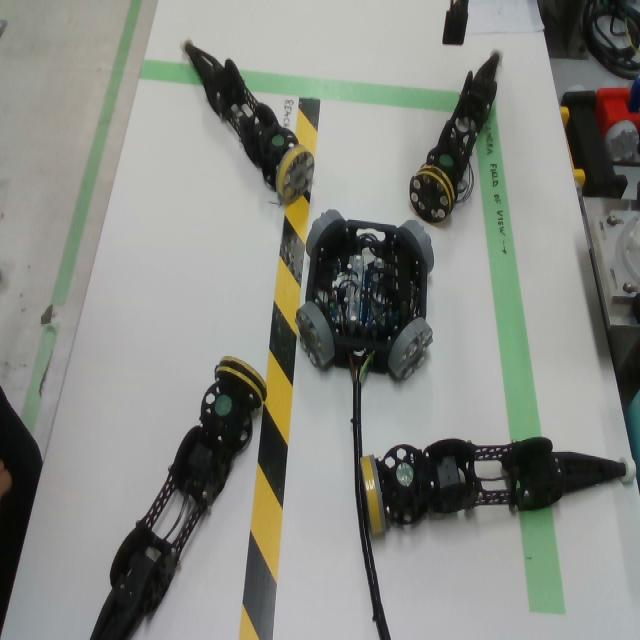body: (305, 220, 427, 373)
body_connector: (388, 317, 434, 381), (295, 301, 335, 368), (398, 220, 434, 275), (306, 209, 346, 257)
leg: (89, 356, 267, 640), (359, 436, 637, 537), (179, 35, 316, 200), (409, 44, 504, 224)
leg_connector: (409, 164, 456, 224), (215, 356, 267, 408), (360, 455, 387, 539), (276, 145, 314, 201)
leg_marker: (395, 463, 414, 488), (214, 393, 233, 416), (439, 153, 453, 167), (271, 135, 284, 147)
